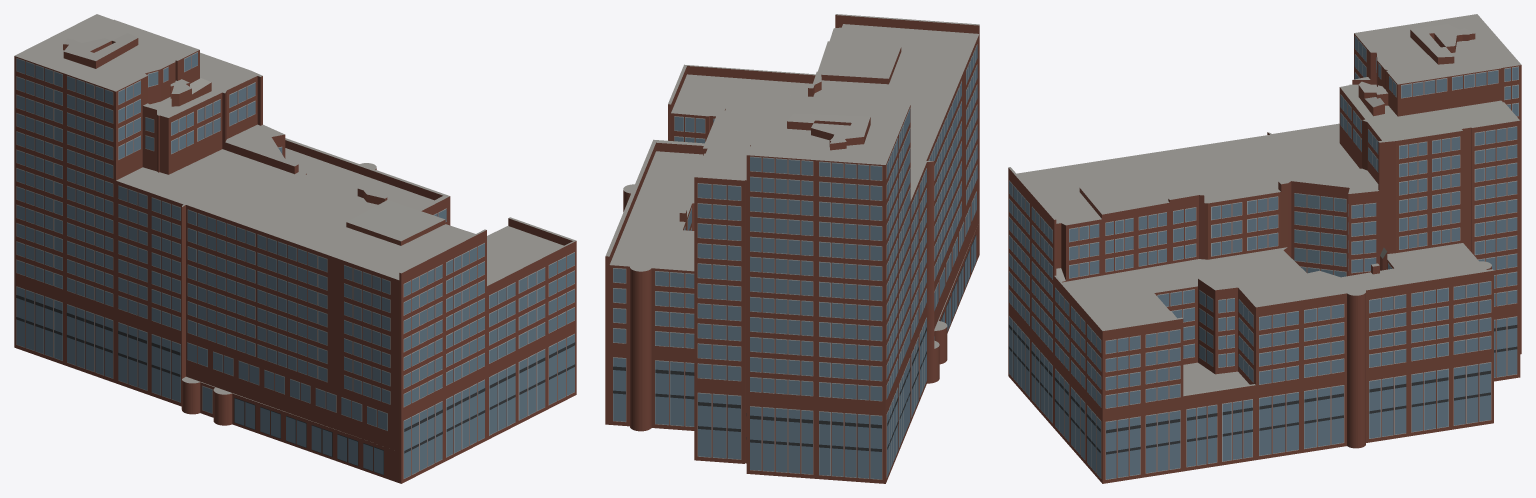
File: hva-wibautstraat-3.glb
3 renders of one model, left to right at view 1: azimuth 30°, elevation 25°; view 2: azimuth 150°, elevation 25°; view 3: azimuth 270°, elevation 25°, orthographic. The views are drawn at different scales.
Parts seen in each view (by area): view 1: hva-wibautstraat-3; view 2: hva-wibautstraat-3; view 3: hva-wibautstraat-3.
Boxes of the visible parts, x1,y1,x2,y2 form: hva-wibautstraat-3: (14,14,576,483); hva-wibautstraat-3: (605,14,979,483); hva-wibautstraat-3: (1008,14,1521,483).
Size of the model in its own units: 74.64 by 57.17 by 89.61.
